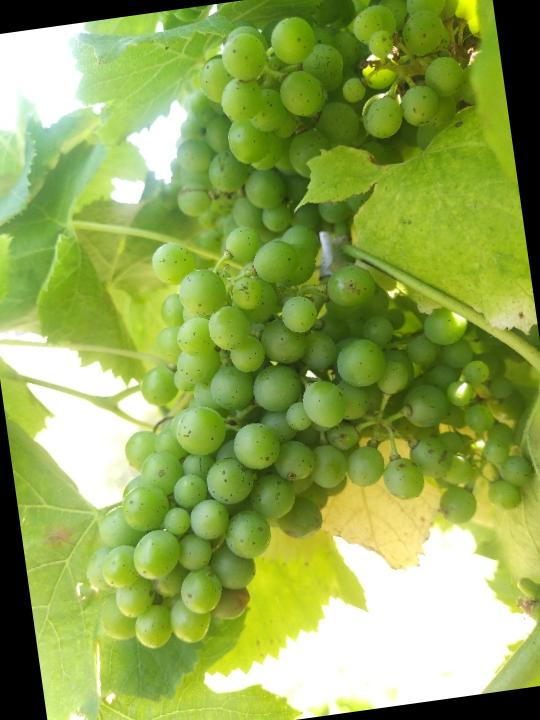grape: (39, 193, 540, 660)
